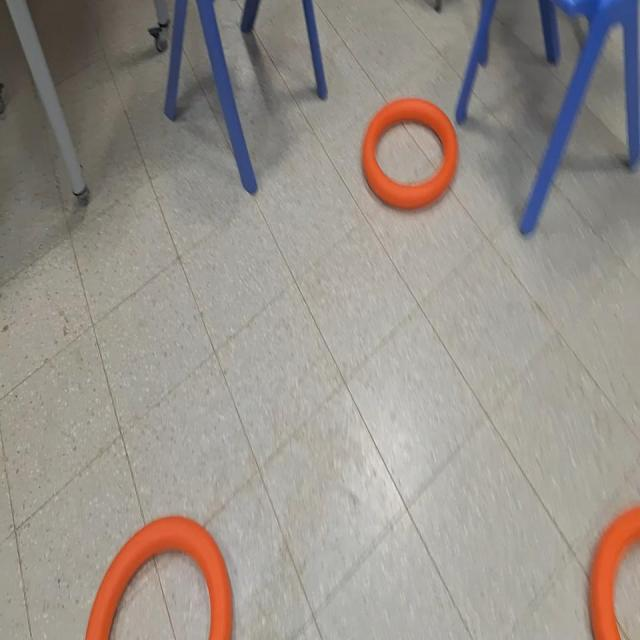note: (84, 514, 234, 640), (361, 97, 459, 213), (587, 505, 640, 640)
